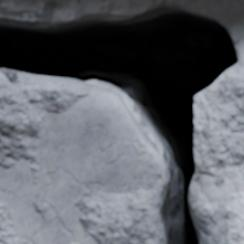broken_brick: (0, 70, 163, 243), (195, 58, 243, 243)
crack: (0, 0, 241, 243)
